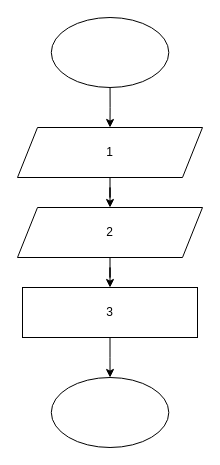
Image size: 220x465. Some labels were removed from this diagram. The shapes that lost their labels are listed below. From the top down, each one's box as (x1, y1, x2, y2) in pixels, then its label:
(50, 16, 169, 88): START
(50, 376, 169, 448): END
